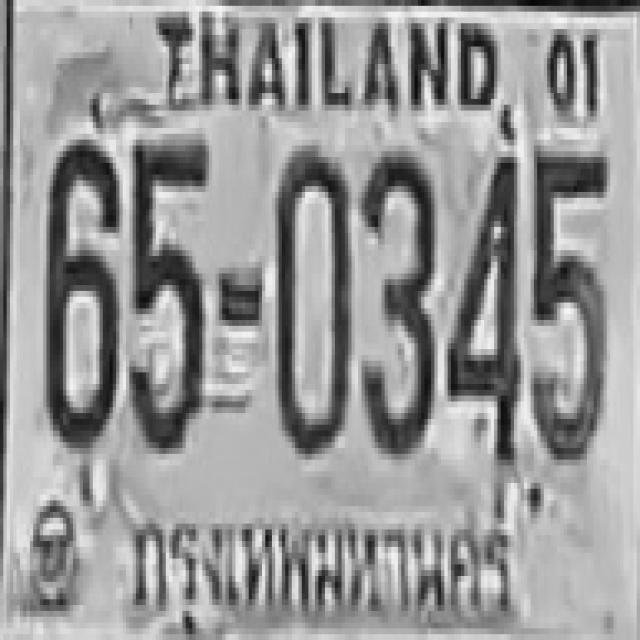0: (272, 140, 348, 448)
3: (358, 145, 435, 448)
4: (444, 145, 518, 454)
5: (128, 131, 207, 445), (529, 142, 605, 456)
6: (41, 134, 118, 442)
Bangkok: (117, 478, 532, 639)
